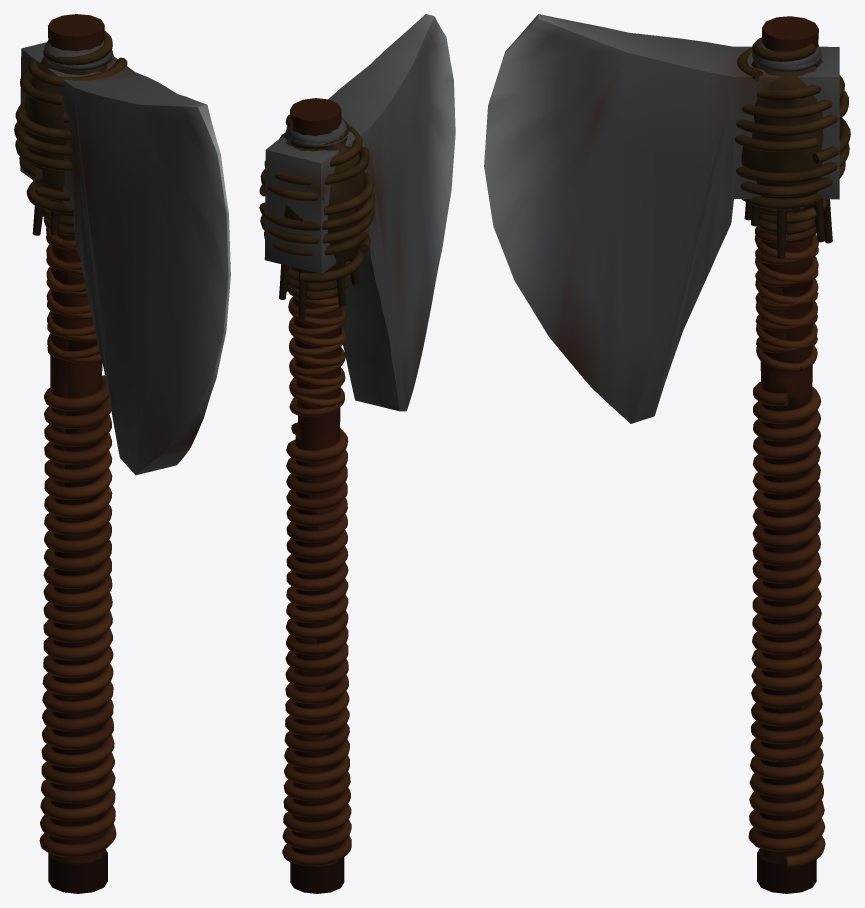
File: tools.glb
3 views of the same model, side by side, from view 1: azimuth 30°, elevation 25°; view 2: azimuth 150°, elevation 25°; view 3: azimuth 270°, elevation 25° (orthographic). The views are drawn at different scales.
Parts seen in each view (by area): view 1: AxeMetal, AxeOrganic, TorchOrganic; view 2: AxeMetal, AxeOrganic, TorchOrganic; view 3: AxeMetal, AxeOrganic, TorchOrganic.
Part boxes in pixels (box(x1,y1,x2,y2)): AxeMetal: box(20, 40, 230, 475); AxeOrganic: box(39, 14, 116, 893); TorchOrganic: box(14, 31, 127, 486); AxeMetal: box(264, 14, 455, 411); AxeOrganic: box(282, 98, 351, 893); TorchOrganic: box(259, 114, 375, 529); AxeMetal: box(484, 14, 839, 423); AxeOrganic: box(748, 16, 825, 893); TorchOrganic: box(734, 37, 850, 400).
Size of the model in its own units: 0.0968 by 0.7219 by 0.2774.
